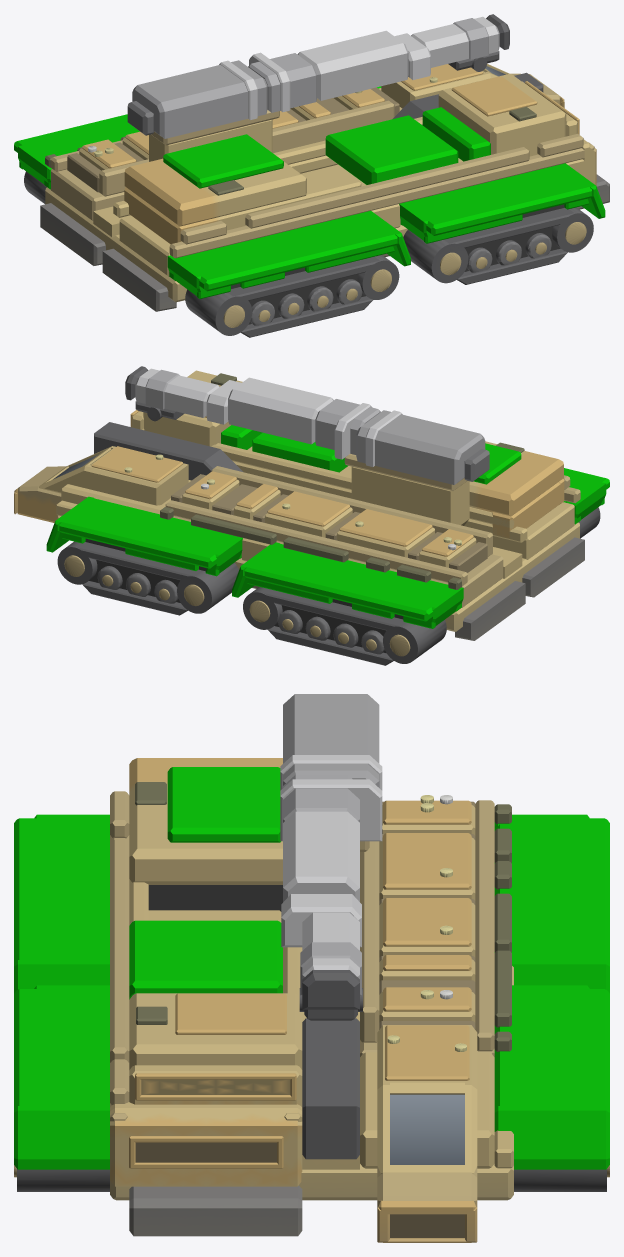
Rendered from mcv.glb.
The picture shows the model from 3 angles, top to bottom: view 1: azimuth 30°, elevation 25°; view 2: azimuth 150°, elevation 25°; view 3: azimuth 270°, elevation 25°; orthographic projection. The views are drawn at different scales.
Parts seen in each view (by area): view 1: cover, cover_3, housing, block, hpanel_2, rail, boom_w, rail_3, cab, hpanel, rack_in, deck (+51 smaller); view 2: cover_2, cover_4, housing, boom_w, pedestal, block, ramp, rack_out, rack_in, cabin_3, hull (×2), wall_2 (+56 smaller); view 3: cover_2, cover, cover_4, hpanel_2, cover_3, nose, block, bumper_3, hpanel, ramp, cab, housing (+55 smaller).
Part boxes in pixels (<box>): cover: <box>177,212,397,291</box>; cover_3: <box>407,164,591,235</box>; housing: <box>132,60,267,138</box>; block: <box>124,158,306,226</box>; hpanel_2: <box>325,115,458,184</box>; rail: <box>169,142,594,258</box>; boom_w: <box>297,30,408,100</box>; rail_3: <box>245,147,529,228</box>; cab: <box>438,73,566,156</box>; hpanel: <box>163,134,283,188</box>; rack_in: <box>99,100,394,196</box>; deck: <box>119,158,462,276</box>; cover_2: <box>244,543,454,621</box>; cover_4: <box>59,498,237,568</box>; housing: <box>356,410,485,484</box>; boom_w: <box>228,377,333,444</box>; pedestal: <box>351,466,469,525</box>; block: <box>469,441,563,516</box>; ramp: <box>94,422,243,480</box>; rack_out: <box>165,500,467,586</box>; rack_in: <box>211,466,492,556</box>; cabin_3: <box>39,464,163,505</box>; hull (×2): <box>56,500,579,631</box>; wall_2: <box>142,428,514,528</box>; cover_2: <box>494,818,609,964</box>; cover: <box>14,818,109,964</box>; cover_4: <box>494,989,609,1110</box>; hpanel_2: <box>129,920,282,997</box>; cover_3: <box>14,989,109,1110</box>; nose: <box>110,1102,302,1186</box>; block: <box>129,758,282,884</box>; bumper_3: <box>129,1185,302,1236</box>; hpanel: <box>167,767,280,842</box>; ramp: <box>302,1018,359,1159</box>; cab: <box>129,993,302,1069</box>; housing: <box>283,694,379,787</box>.
Size of the model in its own units: 1.44 by 0.4813 by 0.9849.
